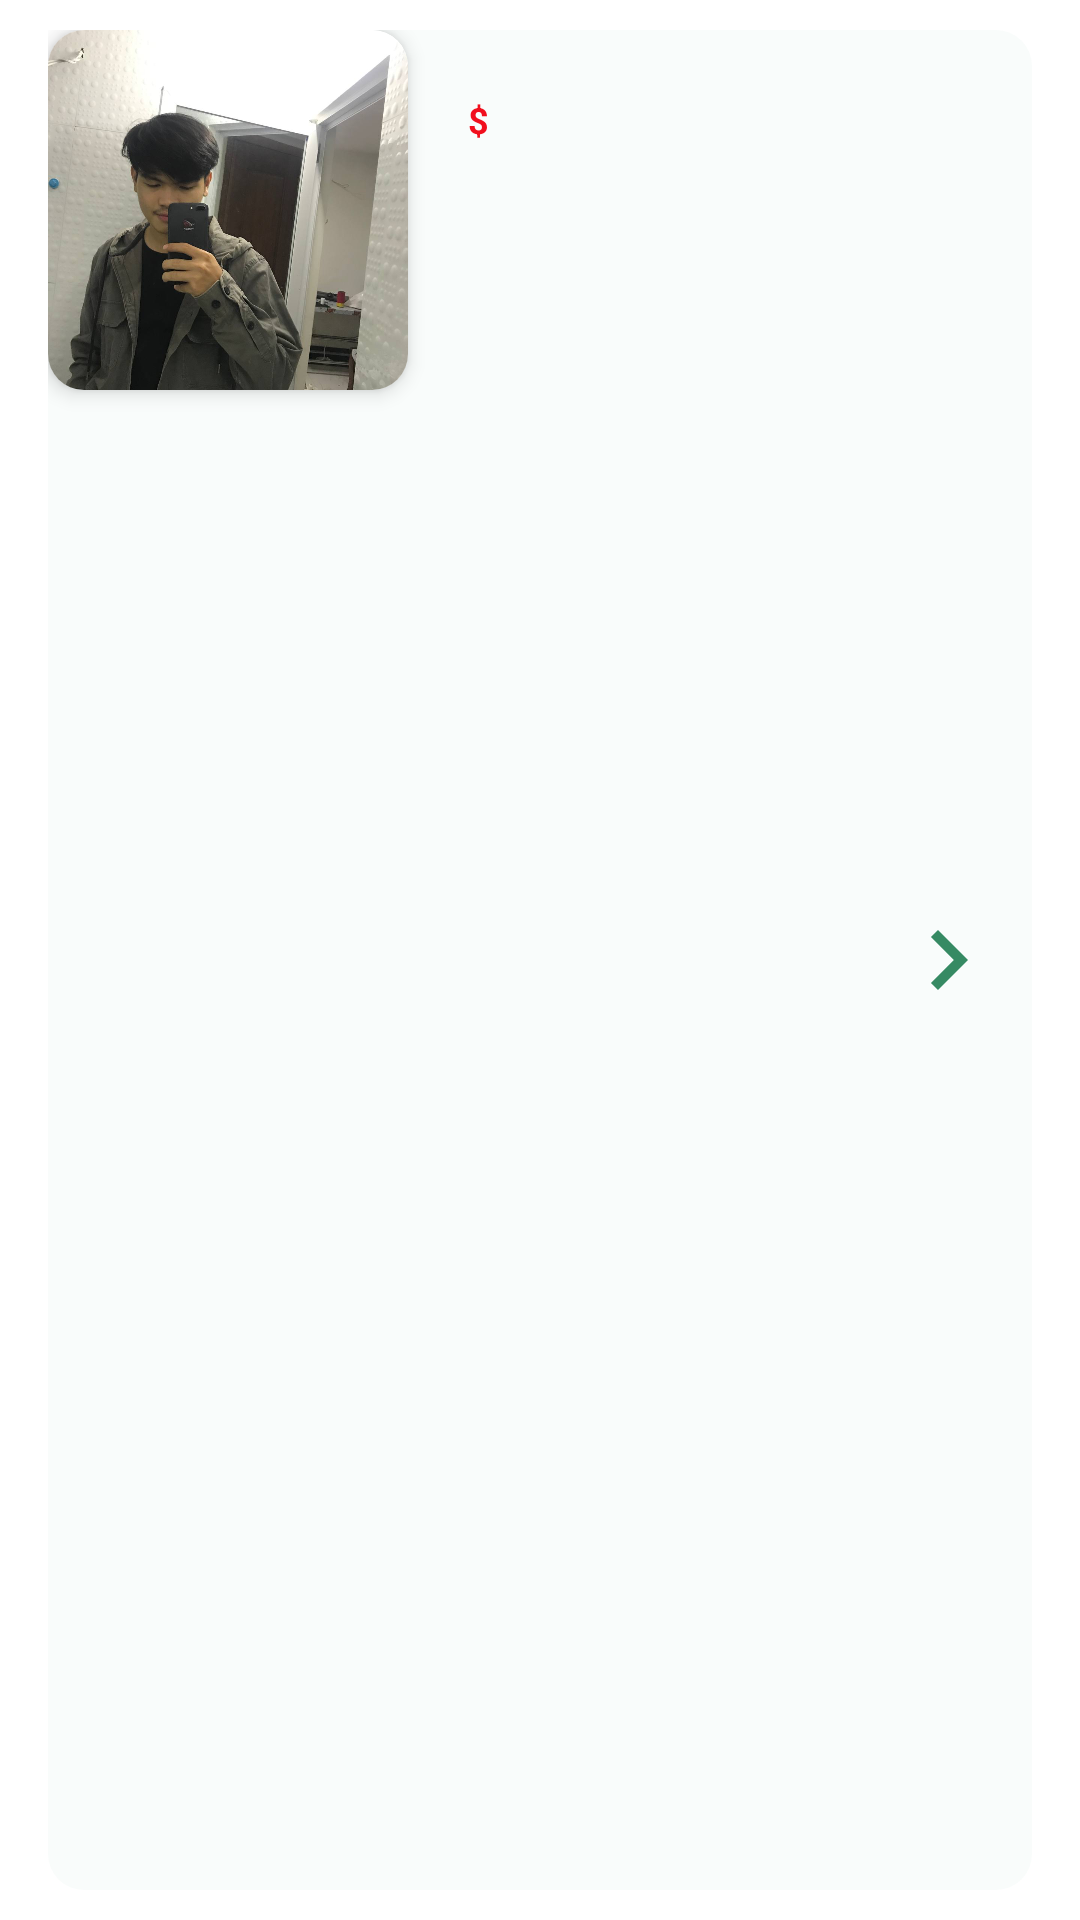

Icons on this 1080*1920 Android screen, each with the point to tap as (x,y):
imgpf: (228,210)
next: (949,960)
